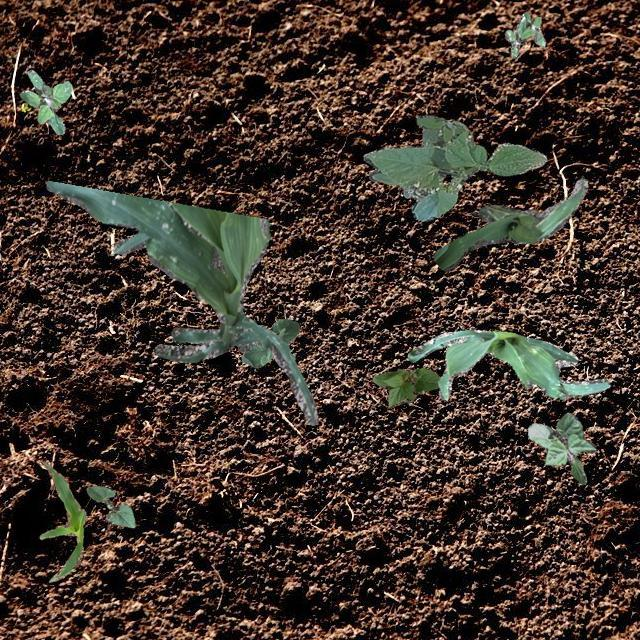crop: (45, 180, 316, 424), (362, 130, 546, 220), (406, 328, 610, 399), (432, 176, 586, 270), (39, 460, 84, 580), (526, 412, 594, 484), (240, 318, 298, 367), (372, 366, 439, 406), (86, 484, 134, 526)
weed: (368, 115, 472, 202), (18, 68, 70, 134), (504, 10, 544, 58)
